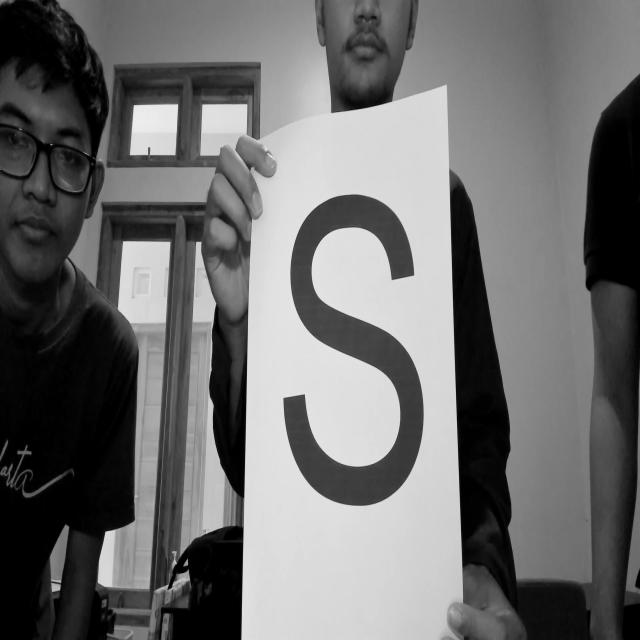s: (278, 158, 444, 544)
